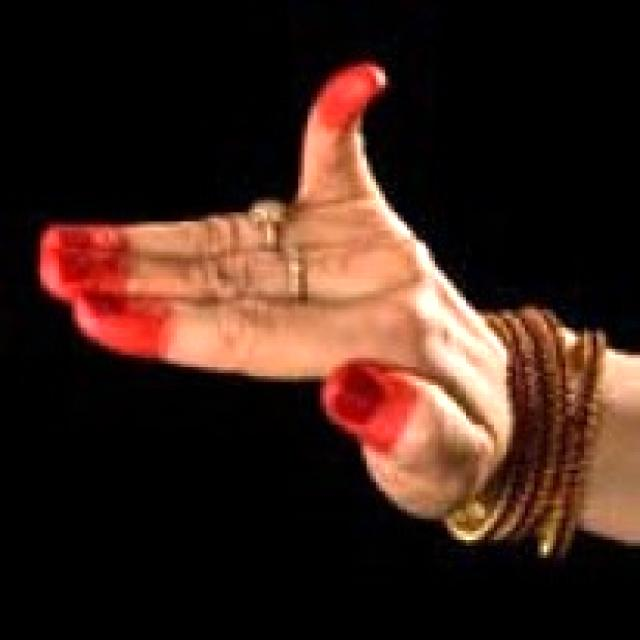Hamsapaksha: (27, 44, 549, 548)
